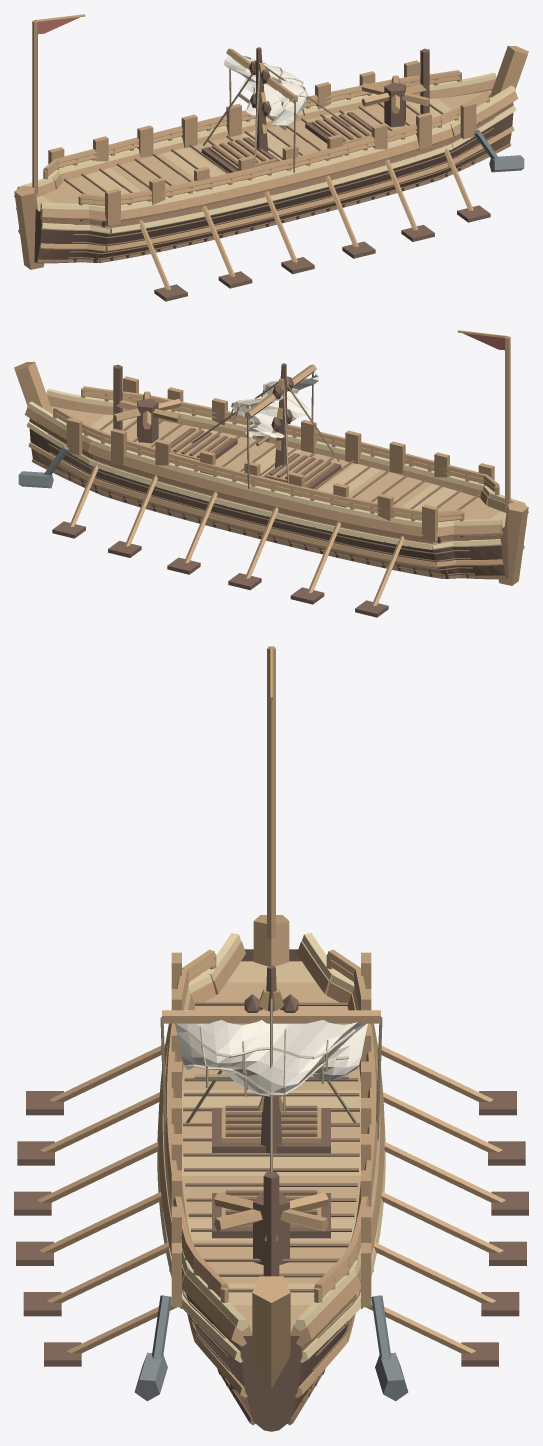
The model's file is kobaya-v5-mobile.glb.
The picture shows the model from 3 angles, top to bottom: view 1: azimuth 30°, elevation 25°; view 2: azimuth 150°, elevation 25°; view 3: azimuth 270°, elevation 25°; orthographic projection. The views are drawn at different scales.
Visible parts, largest first — view 1: kobaya_hull_wood, kobaya_hull_pale, kobaya_railings_wood, kobaya_hull_seam, kobaya_ornament_wood, kobaya_hull_darkwood, kobaya_hull_hull, kobaya_hull_deck, kobaya_oars_wood, kobaya_hull_decklight, kobaya_oars_darkwood, kobaya_fittings_wood (+10 smaller); view 2: kobaya_hull_wood, kobaya_hull_pale, kobaya_railings_wood, kobaya_hull_seam, kobaya_ornament_wood, kobaya_hull_darkwood, kobaya_hull_hull, kobaya_hull_deck, kobaya_oars_wood, kobaya_hull_decklight, kobaya_oars_darkwood, kobaya_fittings_wood (+10 smaller); view 3: kobaya_hull_wood, kobaya_oars_wood, kobaya_hull_deck, kobaya_oars_darkwood, kobaya_sails_ivory, kobaya_hull_decklight, kobaya_hull_seam, kobaya_ornament_wood, kobaya_hull_pale, kobaya_railings_wood, kobaya_hull_darkwood, kobaya_fittings_darkwood (+9 smaller).
Boxes of the visible parts, left/top/right/bottom form: kobaya_hull_wood: left=14, top=45, right=528, bottom=269; kobaya_hull_pale: left=16, top=72, right=516, bottom=233; kobaya_railings_wood: left=43, top=70, right=489, bottom=205; kobaya_hull_seam: left=36, top=103, right=511, bottom=263; kobaya_ornament_wood: left=48, top=60, right=476, bottom=225; kobaya_hull_darkwood: left=34, top=113, right=513, bottom=262; kobaya_hull_hull: left=37, top=90, right=513, bottom=260; kobaya_hull_deck: left=42, top=90, right=491, bottom=203; kobaya_oars_wood: left=138, top=145, right=473, bottom=290; kobaya_hull_decklight: left=36, top=98, right=451, bottom=220; kobaya_oars_darkwood: left=154, top=205, right=490, bottom=301; kobaya_fittings_wood: left=208, top=75, right=429, bottom=170; kobaya_hull_wood: left=14, top=361, right=528, bottom=585; kobaya_hull_pale: left=26, top=388, right=526, bottom=549; kobaya_railings_wood: left=53, top=386, right=499, bottom=521; kobaya_hull_seam: left=31, top=419, right=506, bottom=579; kobaya_ornament_wood: left=66, top=376, right=494, bottom=541; kobaya_hull_darkwood: left=29, top=429, right=508, bottom=578; kobaya_hull_hull: left=29, top=406, right=505, bottom=576; kobaya_hull_deck: left=51, top=406, right=500, bottom=519; kobaya_oars_wood: left=69, top=461, right=404, bottom=606; kobaya_hull_decklight: left=91, top=414, right=506, bottom=536; kobaya_oars_darkwood: left=52, top=521, right=388, bottom=617; kobaya_fittings_wood: left=113, top=391, right=334, bottom=486; kobaya_hull_wood: left=158, top=915, right=384, bottom=1397; kobaya_oars_wood: left=37, top=1043, right=505, bottom=1353; kobaya_hull_deck: left=182, top=982, right=360, bottom=1345; kobaya_oars_darkwood: left=14, top=1091, right=528, bottom=1366; kobaya_sails_ivory: left=175, top=1010, right=367, bottom=1096; kobaya_hull_decklight: left=182, top=961, right=360, bottom=1304; kobaya_hull_seam: left=182, top=1002, right=360, bottom=1425; kobaya_ornament_wood: left=171, top=952, right=371, bottom=1307; kobaya_hull_pale: left=157, top=933, right=385, bottom=1362; kobaya_railings_wood: left=165, top=949, right=377, bottom=1302; kobaya_hull_darkwood: left=194, top=949, right=348, bottom=1431; kobaya_fittings_darkwood: left=212, top=1108, right=330, bottom=1264.
Size of the model in its own units: 31.07 by 14.43 by 16.2.
